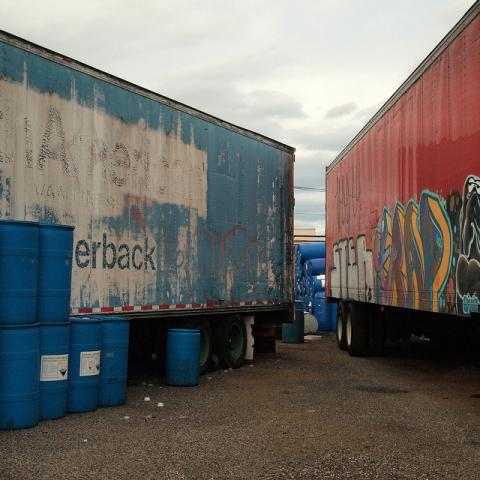truck: (1, 27, 300, 366), (325, 0, 479, 355)
